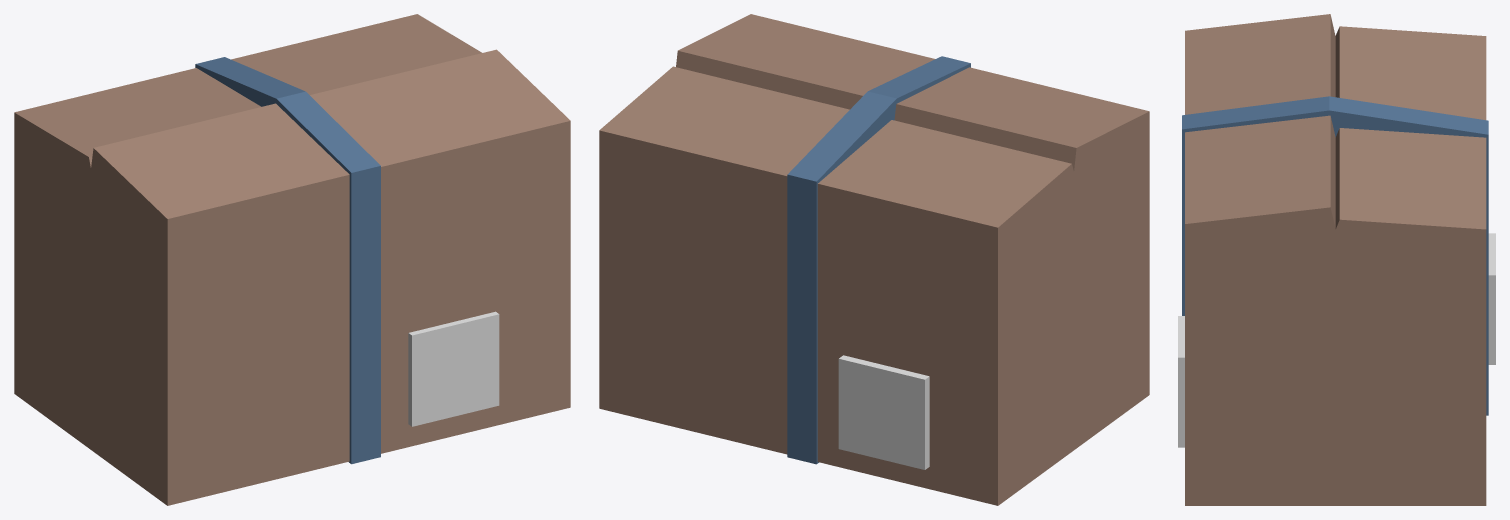
Rendered from PackageBox_Large.fbx.
The picture shows the model from 3 angles, left to right: view 1: azimuth 30°, elevation 25°; view 2: azimuth 150°, elevation 25°; view 3: azimuth 270°, elevation 25°; orthographic projection.
Parts seen in each view (by area): view 1: PackageBox_Large; view 2: PackageBox_Large; view 3: PackageBox_Large.
Part boxes in pixels (x1=…): PackageBox_Large: x1=14, y1=14, x2=570, y2=505; PackageBox_Large: x1=599, y1=14, x2=1149, y2=505; PackageBox_Large: x1=1178, y1=14, x2=1495, y2=505.
Size of the model in its own units: 93.05 by 68.5 by 64.62.
